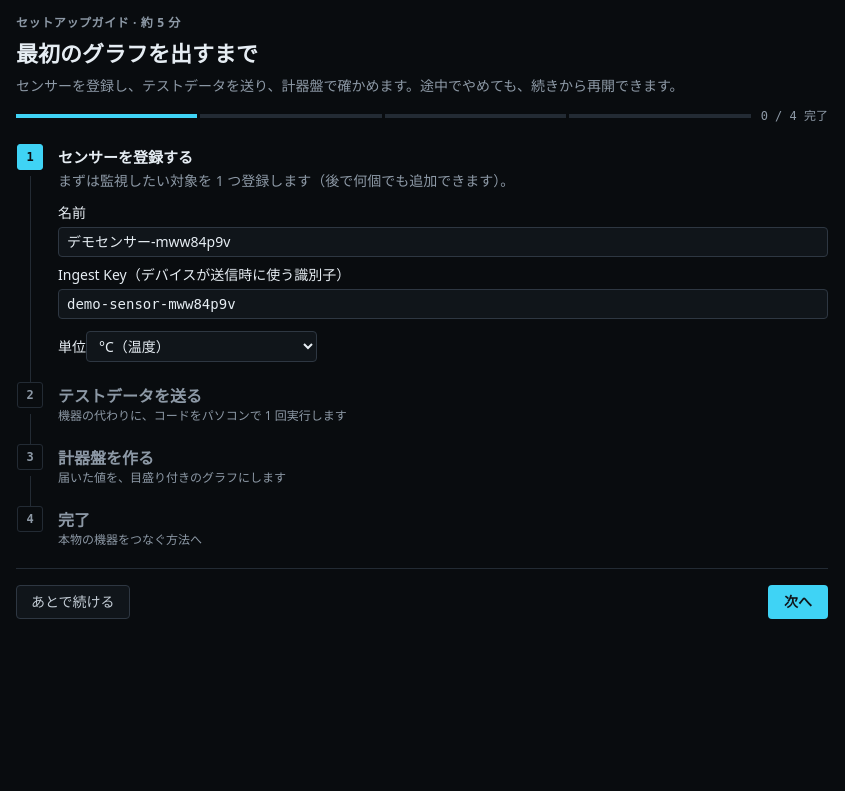
Test case: SetupWizard › 段階 2 でコードタブを切り替えられ、コピーできる
This screenshot has width=845, height=791.
Click the button "次へ": [798, 602] box x1=768 y1=584 x2=828 y2=618
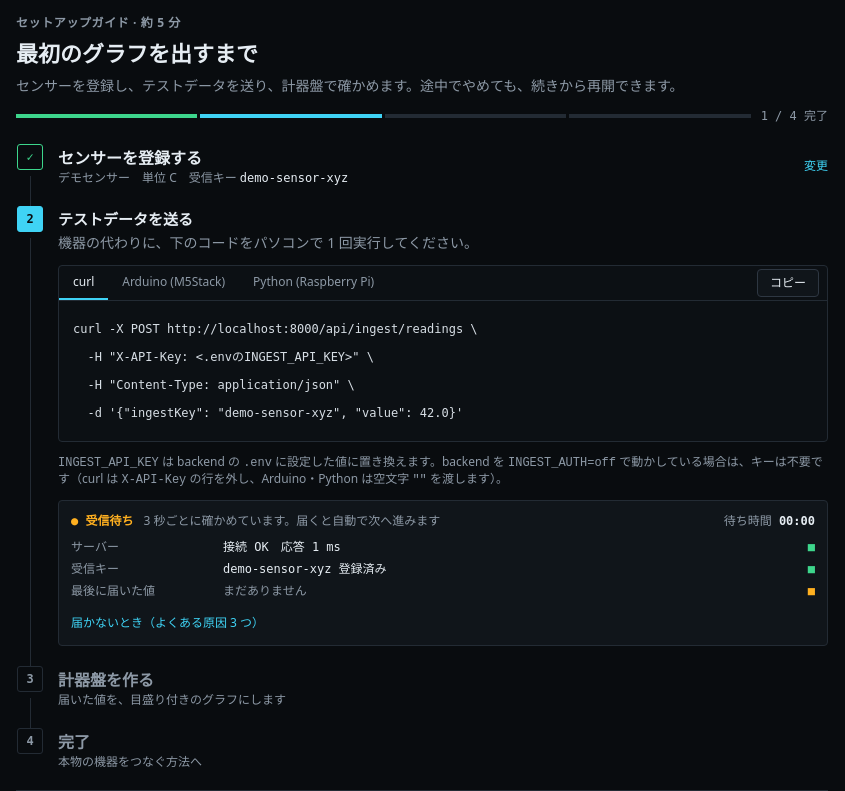
expect the text "機器の代わりに、下のコードをパソコンで 1 回実行してください。" is shown: met, box x1=58 y1=232 x2=478 y2=252
Click the button "Python (Raspberry Pi)": [314, 282] box x1=239 y1=266 x2=388 y2=300
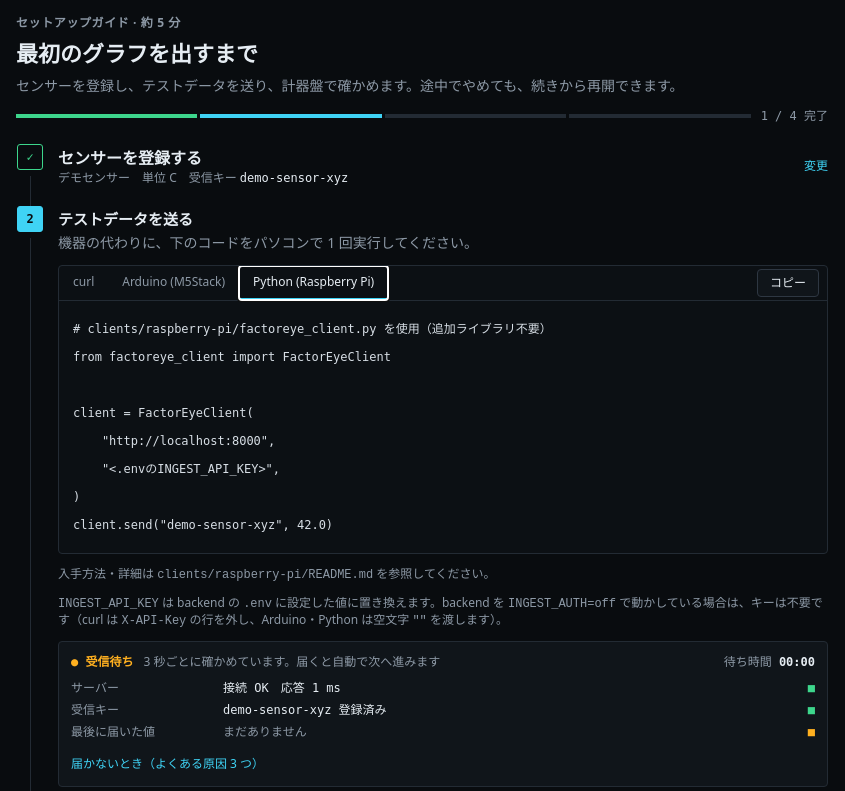
expect the text "factoreye_client" is shown: met, box x1=73 y1=322 x2=552 y2=532
Click the button "コピー": [788, 282] box x1=757 y1=268 x2=819 y2=296
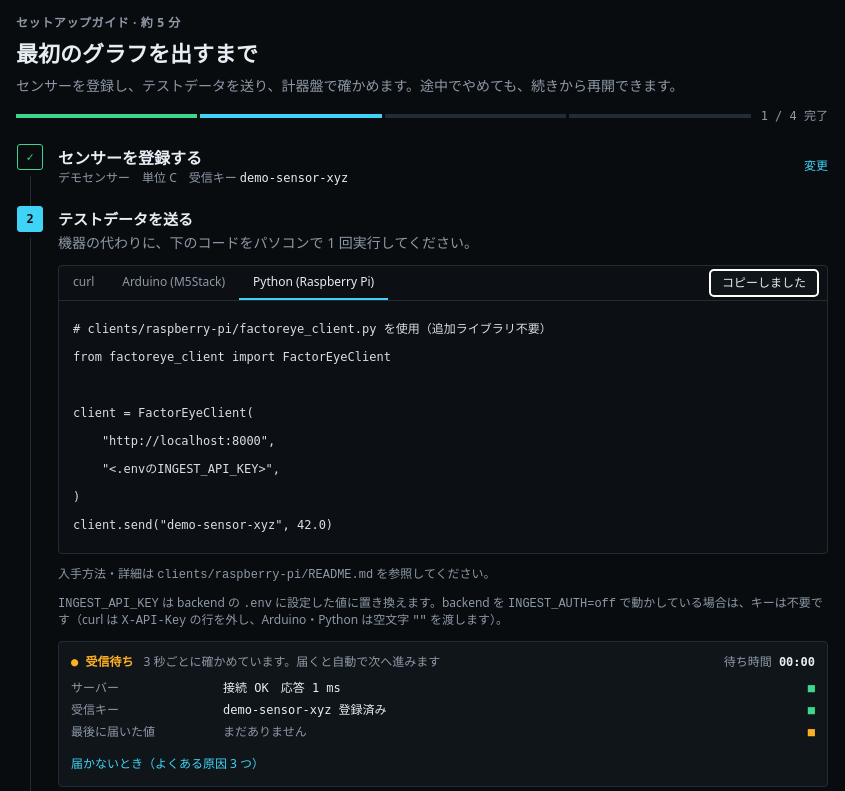
expect the button "コピーしました" is shown: met, box x1=709 y1=268 x2=819 y2=296
